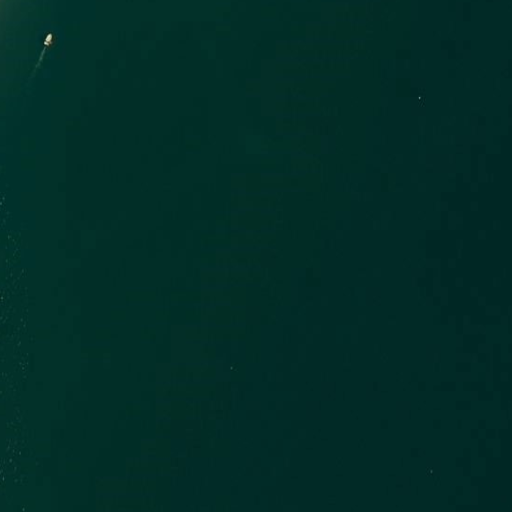ship: (42, 31, 54, 46)
